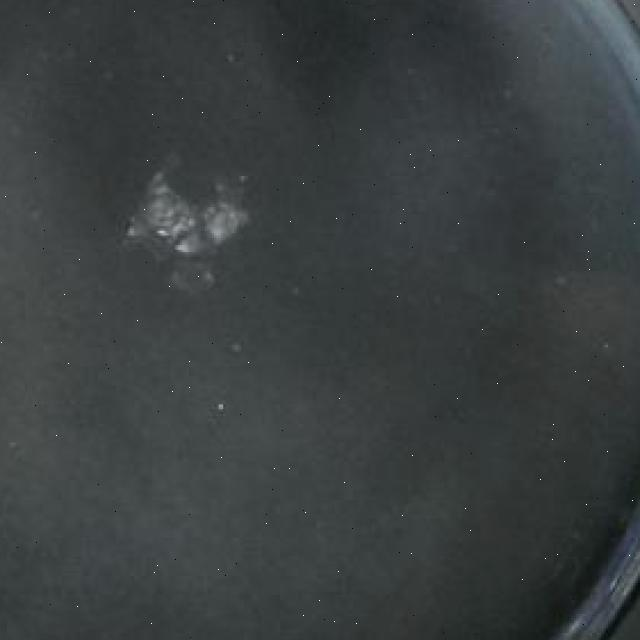Microplastic: (107, 145, 262, 298)
